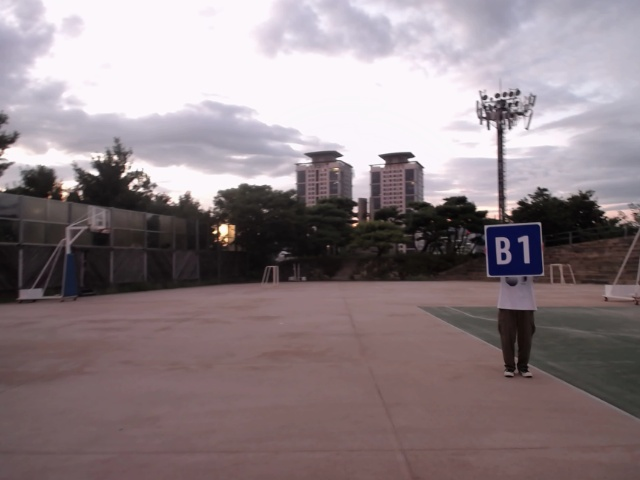delivery_b1: (486, 224, 543, 277)
